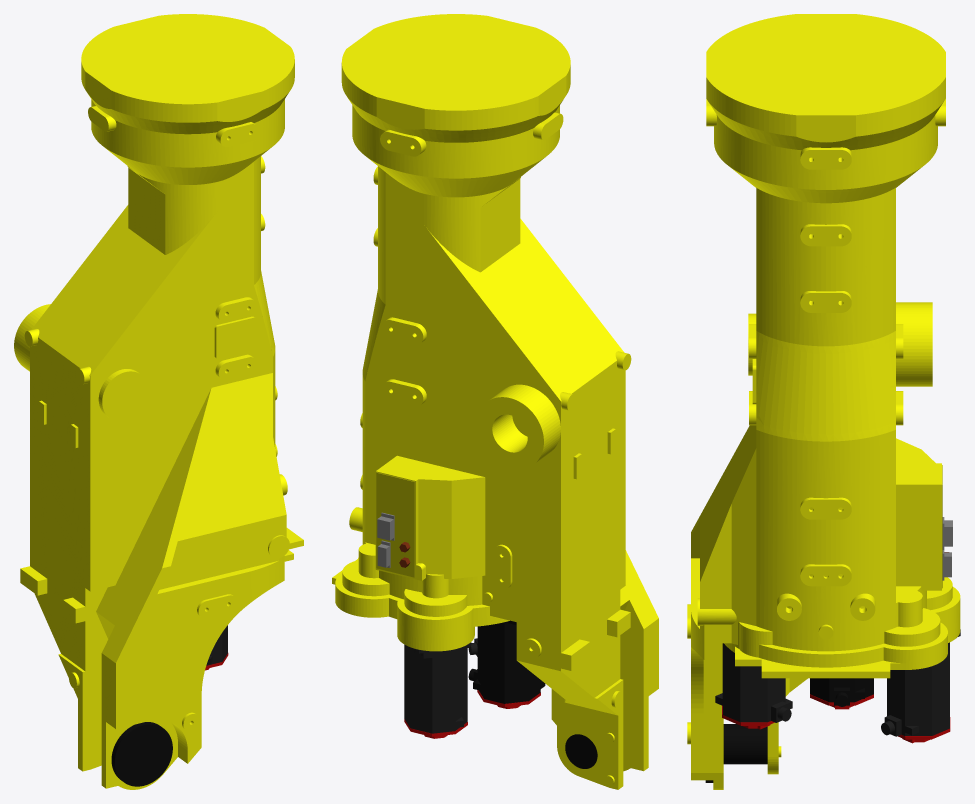
The picture shows the model from 3 angles, left to right: view 1: azimuth 30°, elevation 25°; view 2: azimuth 150°, elevation 25°; view 3: azimuth 270°, elevation 25°; orthographic projection. The views are drawn at different scales.
Parts seen in each view (by area): view 1: node; view 2: node; view 3: node.
Part boxes in pixels (<box>): node: <box>14,14,303,789</box>; node: <box>332,14,658,789</box>; node: <box>687,14,960,789</box>.
Bounding box in the file's own units: 826 × 2329 × 744.
